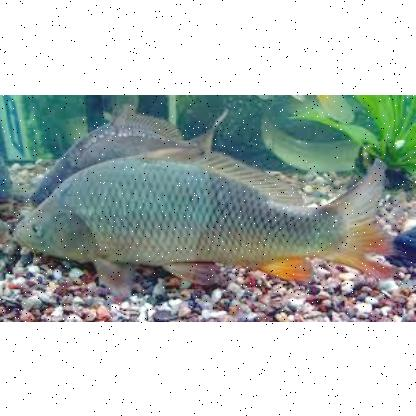ikan-mas: (16, 154, 382, 274)
